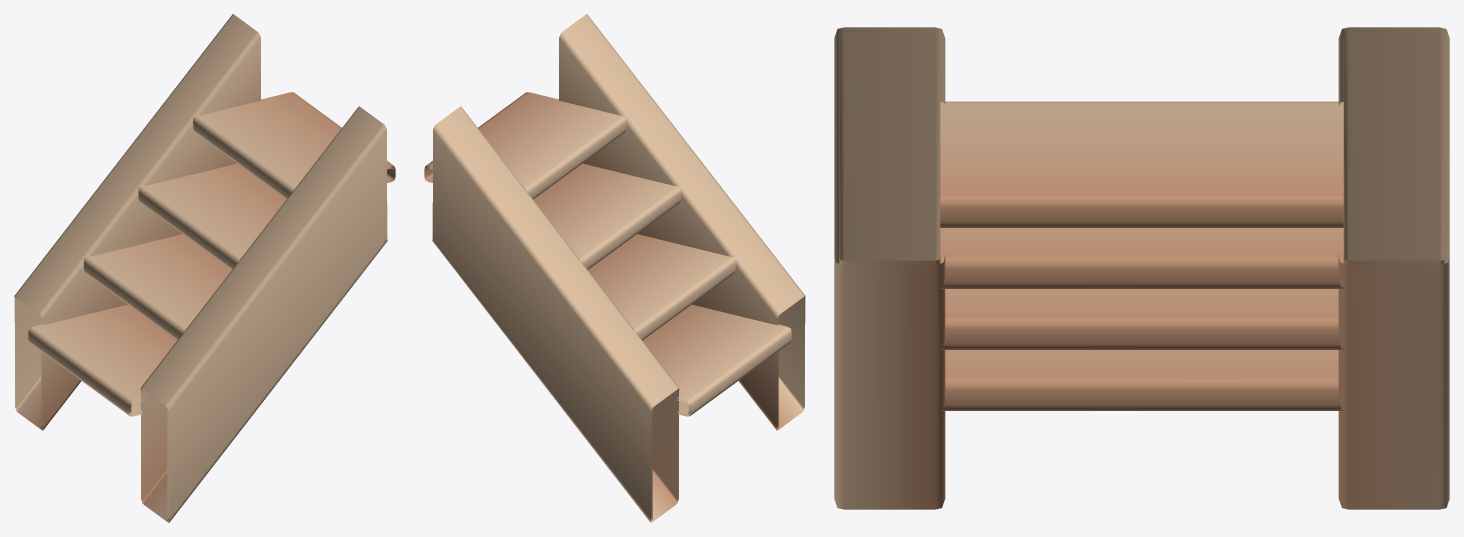
The model's file is Stairs_top.fbx.
3 renders of one model, left to right at view 1: azimuth 30°, elevation 25°; view 2: azimuth 150°, elevation 25°; view 3: azimuth 270°, elevation 25°, orthographic. The views are drawn at different scales.
Parts seen in each view (by area): view 1: Stairs_top; view 2: Stairs_top; view 3: Stairs_top.
Boxes of the visible parts, x1,y1,x2,y2 form: Stairs_top: [14, 14, 395, 522]; Stairs_top: [424, 14, 805, 522]; Stairs_top: [834, 27, 1449, 509].
Bounding box in the file's own units: 244 × 303 × 244.
